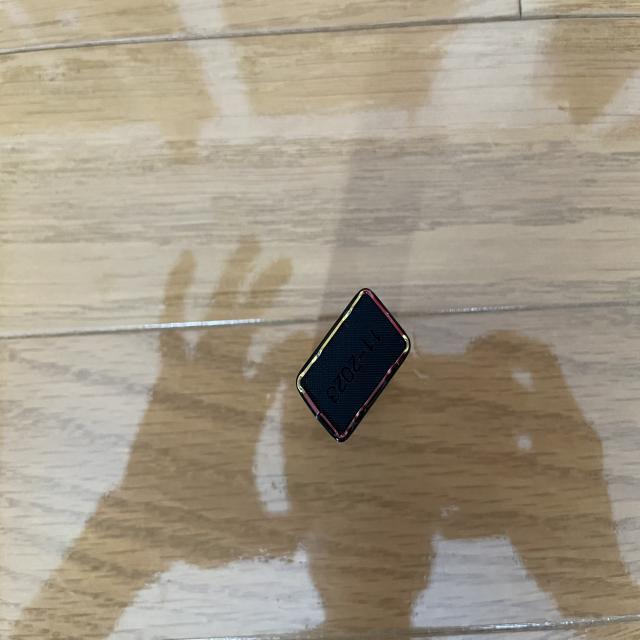9V: (295, 285, 414, 445)
